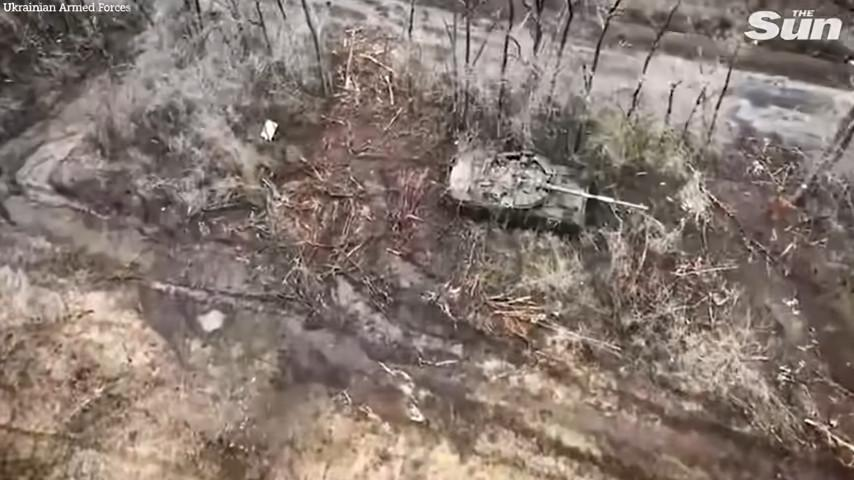tank: (446, 147, 651, 231)
